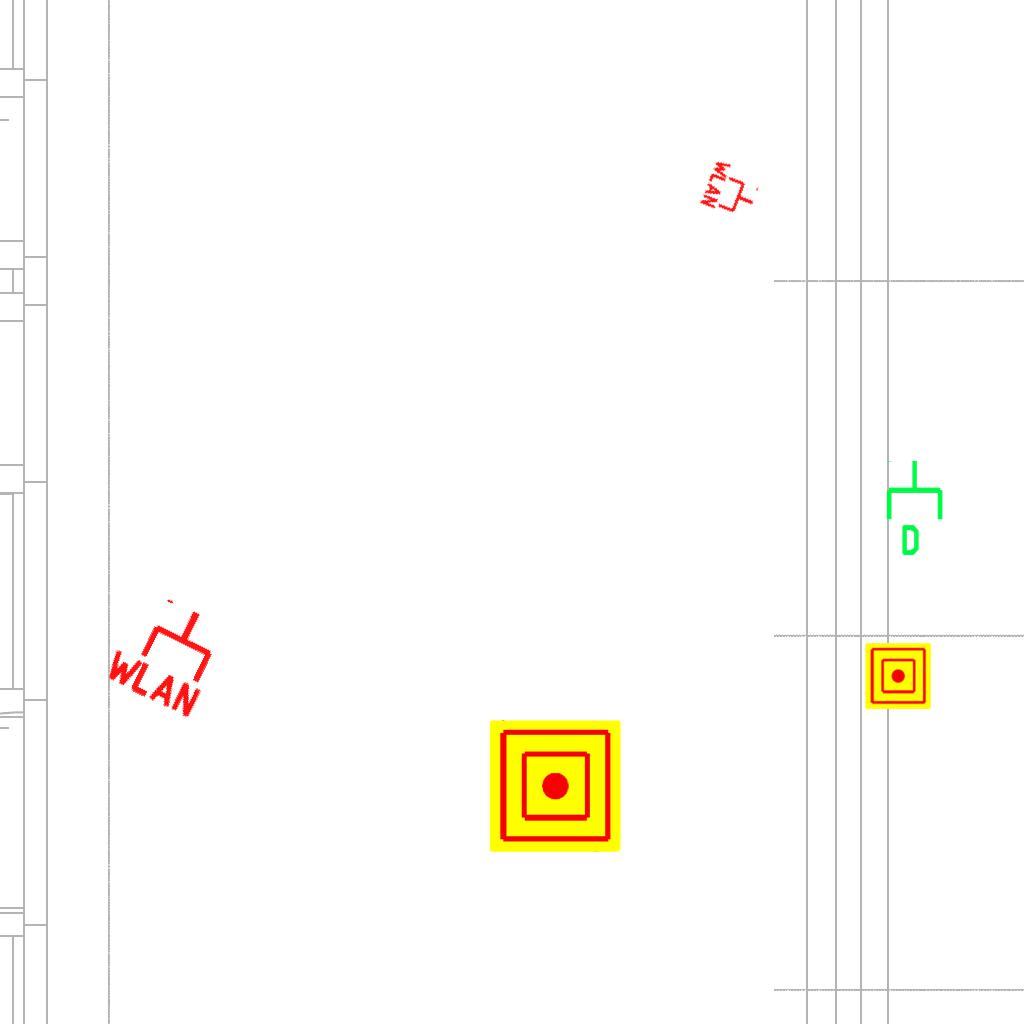Datenanschluss_einfach: (882, 458, 951, 558)
NAM-Nichtautomatischer_Melder: (489, 720, 621, 852), (865, 643, 931, 709)
WLAN: (97, 582, 238, 722), (698, 156, 766, 224)
